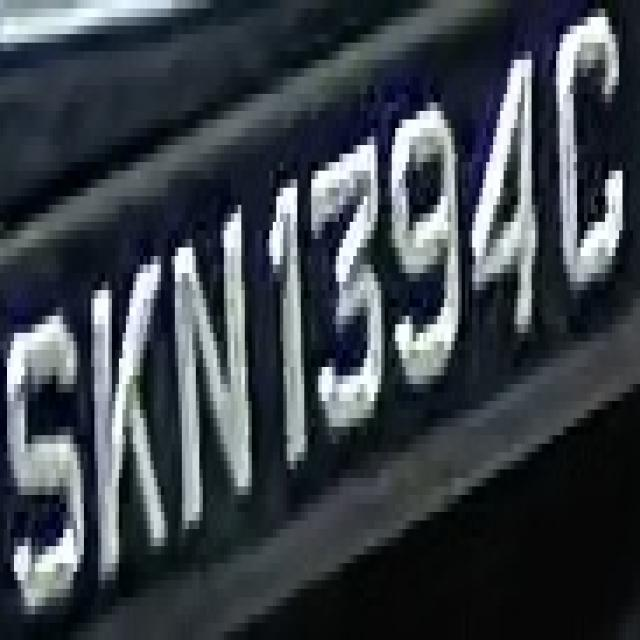1: (262, 145, 304, 486)
3: (304, 137, 399, 470)
4: (455, 26, 549, 358)
9: (381, 85, 465, 410)
C: (546, 25, 622, 298)
K: (88, 222, 172, 589)
N: (154, 196, 259, 529)
S: (11, 273, 88, 614)
